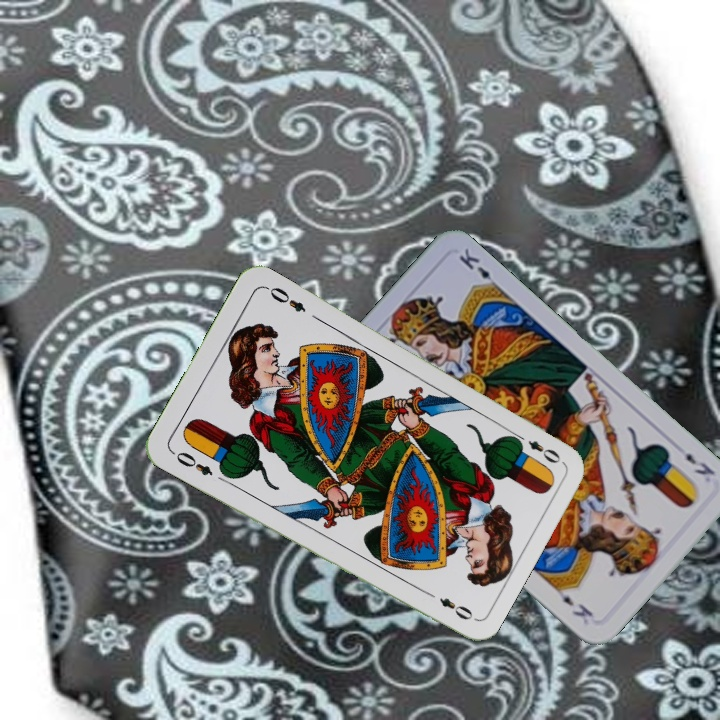EK: (681, 448, 718, 478)
EO: (510, 429, 564, 466), (167, 447, 216, 478)
